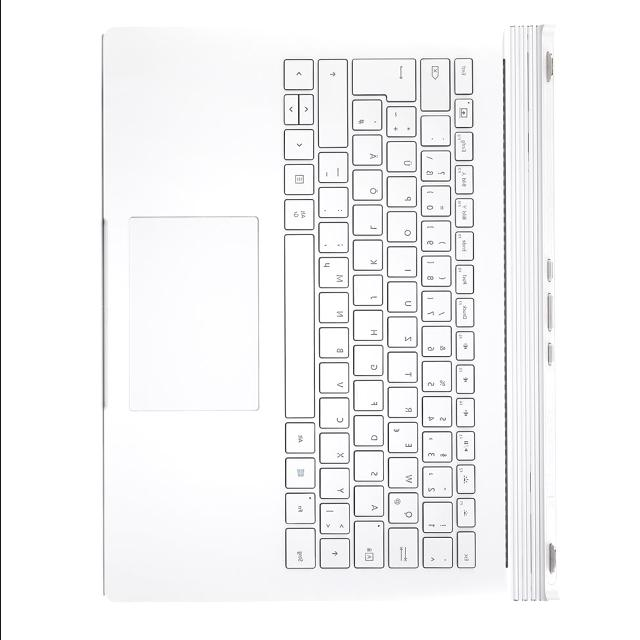0: (422, 188, 454, 220)
1: (422, 502, 454, 534)
2: (424, 469, 456, 501)
3: (424, 434, 456, 466)
4: (424, 399, 456, 431)
5: (423, 364, 455, 396)
6: (423, 329, 455, 361)
7: (422, 293, 454, 325)
8: (422, 258, 454, 290)
9: (422, 223, 454, 255)
a: (355, 488, 387, 520)
accent: (422, 118, 454, 150)
ae: (354, 137, 386, 169)
alt-left: (286, 425, 318, 457)
altgr-right: (283, 199, 315, 231)
b: (320, 330, 352, 362)
c: (321, 399, 353, 433)
caret: (423, 537, 455, 569)
comma: (320, 224, 352, 256)
d: (355, 418, 387, 450)
del: (422, 60, 454, 114)
e: (389, 425, 421, 457)
enter: (353, 60, 419, 106)
f: (355, 383, 387, 415)
g: (355, 347, 387, 379)
h: (355, 312, 386, 344)
hash: (353, 102, 385, 134)
i: (387, 247, 419, 279)
j: (354, 277, 386, 309)
k: (354, 242, 386, 274)
keyboard: (276, 52, 484, 580)
l: (354, 208, 386, 239)
less: (321, 504, 353, 538)
m: (320, 260, 352, 292)
minus: (319, 154, 351, 186)
n: (320, 295, 352, 327)
o: (386, 211, 418, 243)
oe: (353, 172, 385, 204)
p: (388, 179, 420, 211)
plus: (388, 109, 420, 141)
point: (320, 189, 352, 221)
q: (389, 495, 421, 527)
r: (389, 389, 421, 421)
s: (355, 453, 387, 485)
shift-left: (321, 540, 353, 572)
shift-lock: (355, 523, 387, 573)
shift-right: (319, 61, 351, 151)
space: (285, 236, 319, 422)
ss: (422, 154, 454, 186)
strg-left: (286, 530, 317, 572)
t: (389, 355, 420, 387)
tab: (389, 530, 421, 572)
u: (389, 284, 421, 316)
ue: (388, 145, 420, 177)
v: (321, 365, 353, 397)
w: (389, 460, 421, 492)
x: (321, 435, 352, 467)
y: (321, 471, 353, 503)
z: (389, 319, 421, 351)
